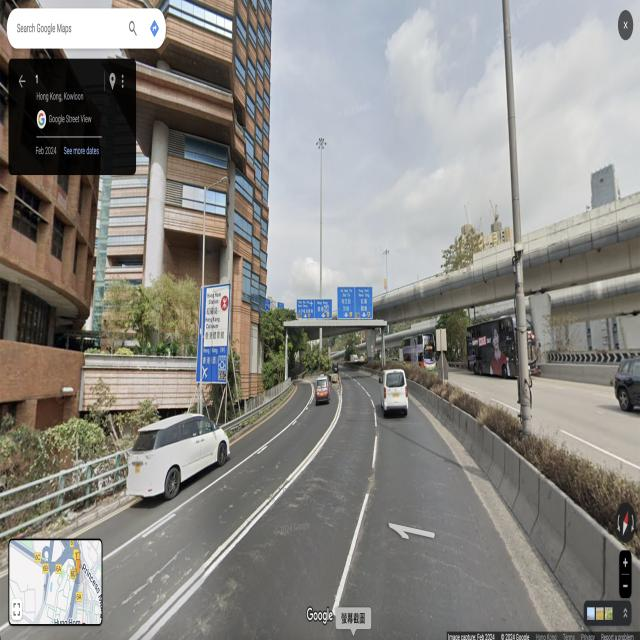Direction-Sign: (196, 285, 230, 383), (338, 286, 373, 318), (297, 299, 332, 320), (266, 299, 271, 311), (278, 302, 284, 308)
